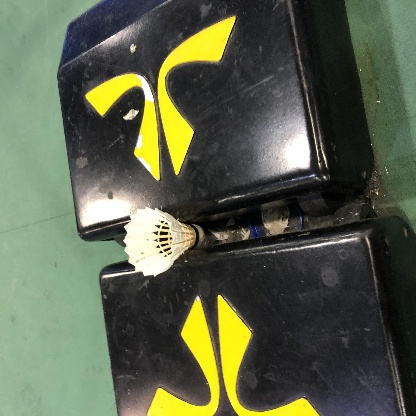ball_single: (123, 206, 205, 276)
